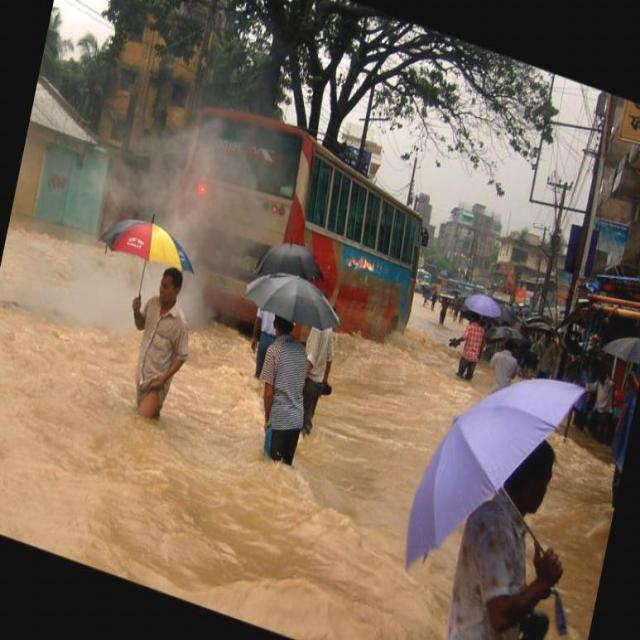flood: (0, 194, 633, 639)
